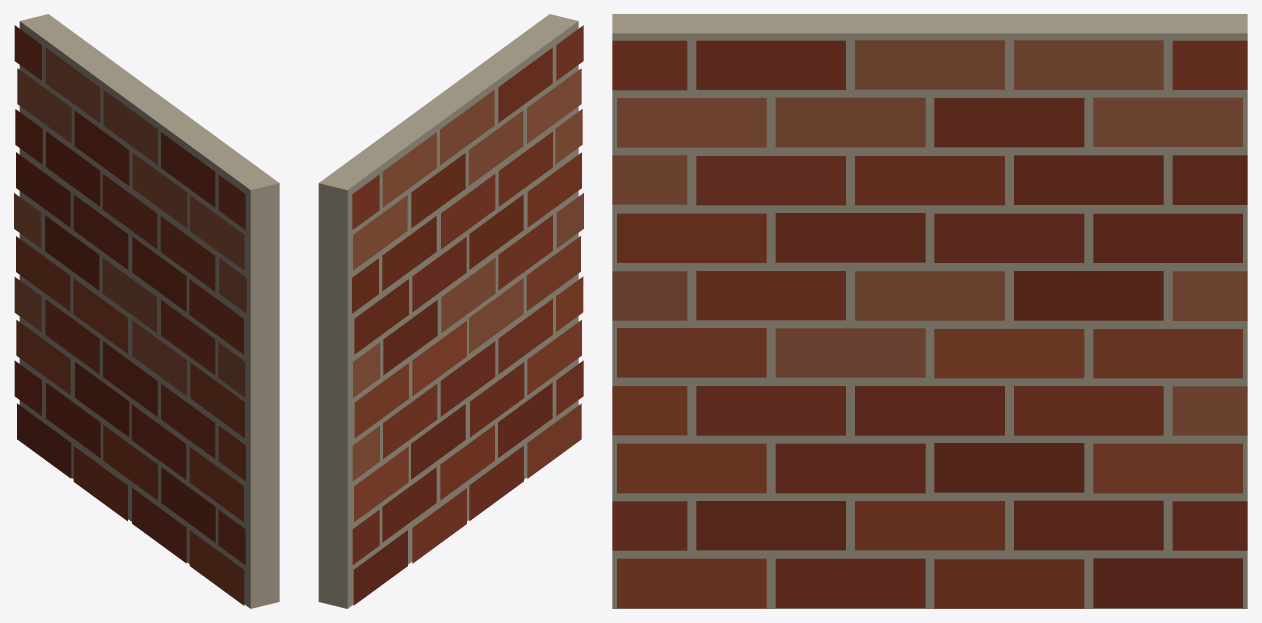
Rendered from wall-brick.glb.
3 renders of one model, left to right at view 1: azimuth 30°, elevation 25°; view 2: azimuth 150°, elevation 25°; view 3: azimuth 270°, elevation 25°, orthographic. The views are drawn at different scales.
Parts seen in each view (by area): view 1: wall-brick; view 2: wall-brick; view 3: wall-brick.
Boxes of the visible parts, x1,y1,x2,y2 form: wall-brick: (14,14,279,608); wall-brick: (318,14,583,608); wall-brick: (612,14,1247,608).
Size of the model in its own units: 0.0999 by 1 by 1.
